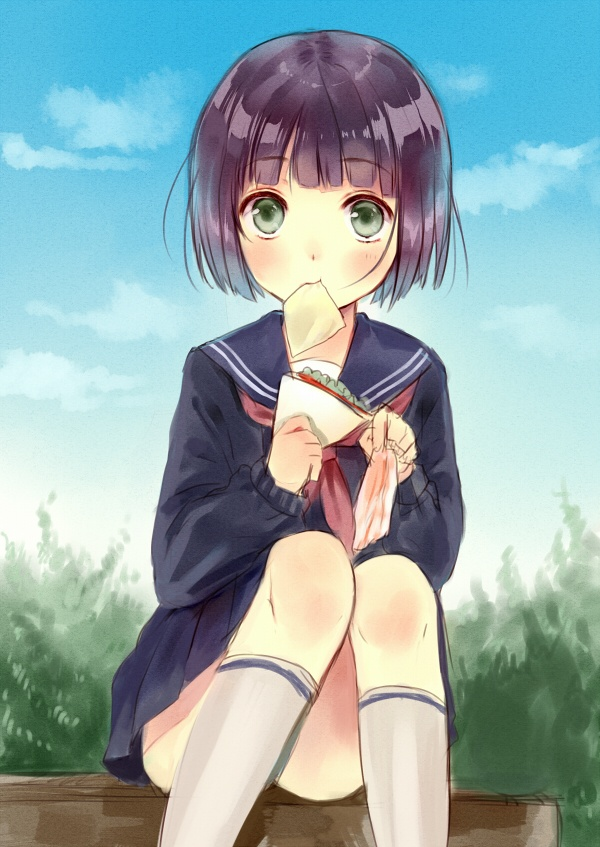纸片人正脸: (179, 27, 449, 310)
